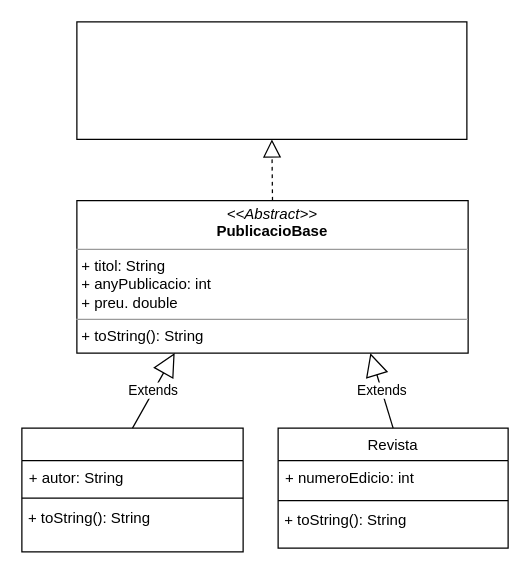
Some shapes in this 530 by 574 pixel diagram are drawn without their labels. The box of each missing label's shape, as (x1, y1, x2, y2) in pixels:
<<Interface>> Publicacio + calculaPreu(): double: (76, 21, 467, 139)
Llibre: (21, 427, 243, 552)
